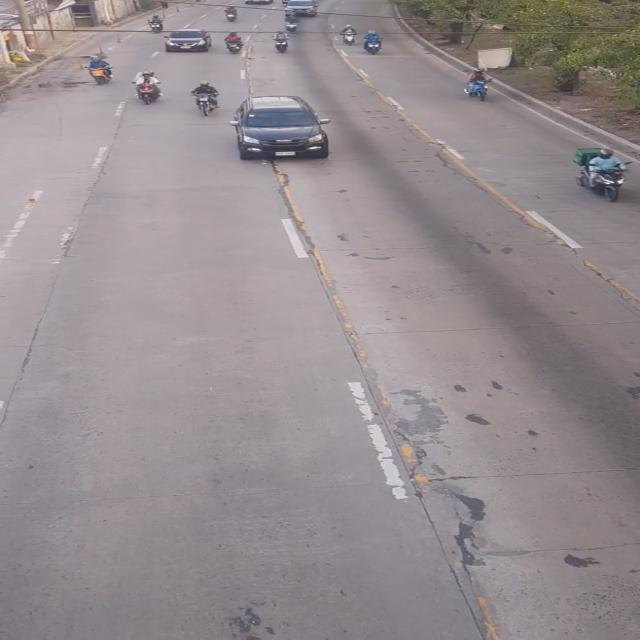car: (234, 96, 333, 166), (163, 27, 210, 51)
motorbike: (578, 146, 626, 202), (459, 67, 492, 103), (135, 72, 162, 110), (82, 56, 116, 84), (197, 77, 220, 116)
